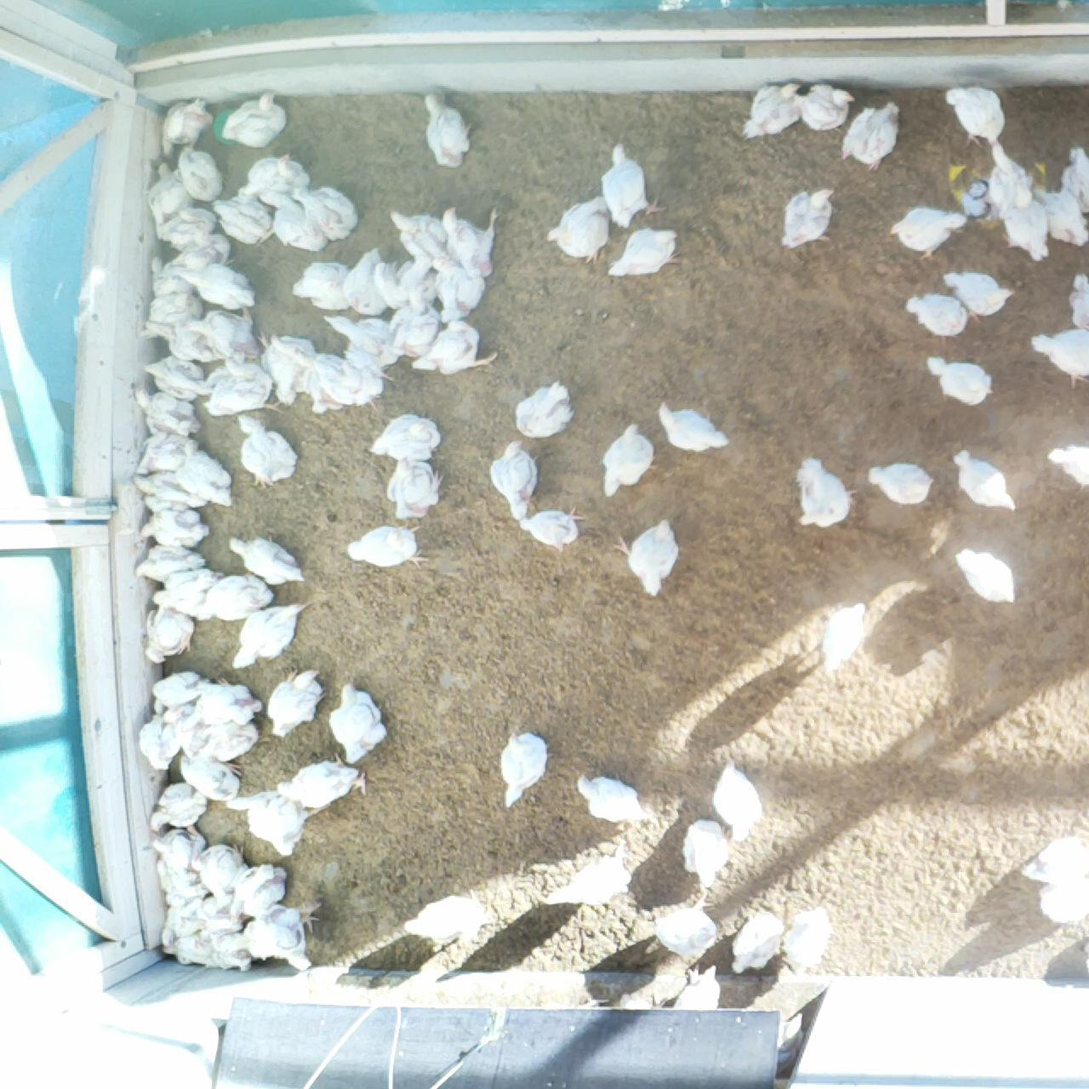chicken: (224, 791, 320, 860), (227, 597, 314, 671), (599, 139, 670, 229), (241, 897, 324, 973), (613, 513, 682, 600), (788, 451, 861, 533), (275, 750, 374, 809), (644, 890, 718, 964), (231, 413, 300, 491), (399, 889, 490, 948), (540, 849, 630, 908), (202, 352, 281, 419), (262, 663, 328, 742), (888, 199, 970, 261), (486, 436, 543, 525), (320, 311, 403, 372), (949, 446, 1020, 517), (331, 680, 389, 766), (711, 756, 767, 844), (545, 192, 612, 265), (597, 419, 657, 500), (444, 202, 502, 283), (380, 450, 445, 522), (411, 322, 496, 377), (496, 726, 548, 815), (843, 95, 903, 172), (921, 348, 996, 409), (654, 395, 731, 454), (778, 181, 840, 254), (183, 305, 262, 362), (342, 522, 430, 573), (674, 815, 733, 891), (258, 331, 316, 408), (312, 351, 384, 413), (175, 260, 259, 313), (608, 224, 687, 280), (183, 674, 263, 729), (996, 184, 1053, 261), (174, 436, 234, 509), (738, 76, 803, 143), (573, 767, 648, 825), (941, 264, 1017, 321), (362, 411, 443, 464), (943, 81, 1008, 147), (228, 530, 302, 587), (198, 571, 276, 625), (515, 376, 576, 443), (223, 88, 290, 149), (982, 138, 1033, 218), (423, 89, 473, 170), (1029, 322, 1089, 389), (953, 546, 1018, 607), (788, 76, 857, 133), (1033, 185, 1089, 255), (373, 251, 439, 310), (728, 909, 784, 978), (388, 282, 440, 356), (261, 192, 326, 251), (899, 286, 967, 342), (147, 566, 222, 616), (227, 862, 287, 924), (188, 840, 251, 899), (783, 902, 833, 976), (1018, 828, 1089, 880), (158, 96, 215, 160), (178, 751, 245, 805), (134, 606, 196, 664), (865, 460, 938, 509), (294, 185, 360, 239), (291, 342, 339, 416), (430, 255, 483, 321), (238, 152, 313, 198), (516, 503, 588, 550), (131, 543, 207, 587), (211, 193, 274, 245), (130, 467, 204, 511), (138, 504, 210, 549), (140, 355, 209, 401), (341, 245, 386, 315), (388, 205, 446, 259), (290, 257, 351, 308), (135, 704, 181, 770), (134, 384, 201, 429), (146, 781, 205, 832), (176, 143, 225, 204), (150, 826, 207, 877), (157, 203, 219, 248), (147, 159, 191, 222), (150, 671, 208, 717), (1039, 876, 1089, 929), (197, 718, 262, 758), (771, 1008, 809, 1075), (670, 965, 725, 1011), (1045, 433, 1089, 490), (1054, 141, 1089, 212), (173, 232, 231, 271), (137, 430, 185, 473), (152, 859, 194, 905), (146, 251, 189, 294), (1058, 265, 1089, 322), (211, 933, 254, 973), (176, 709, 207, 763), (197, 897, 240, 935), (171, 936, 216, 969), (159, 909, 197, 948)
